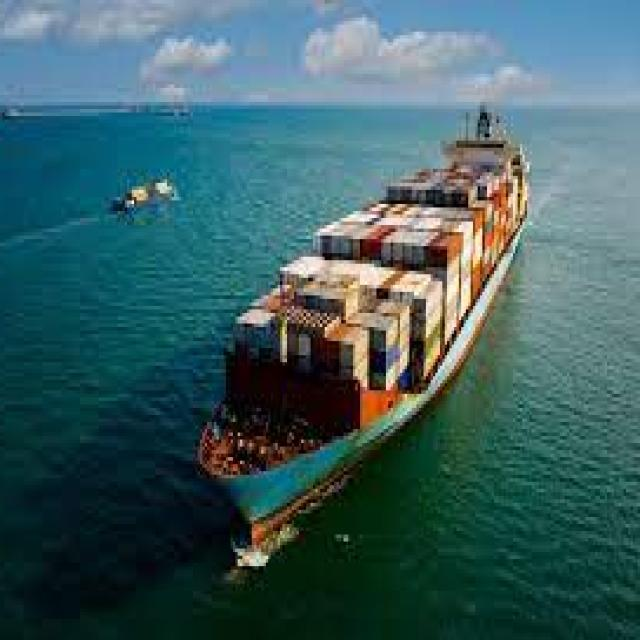cargoship: (202, 102, 534, 537)
fishing boat: (117, 170, 181, 212)
